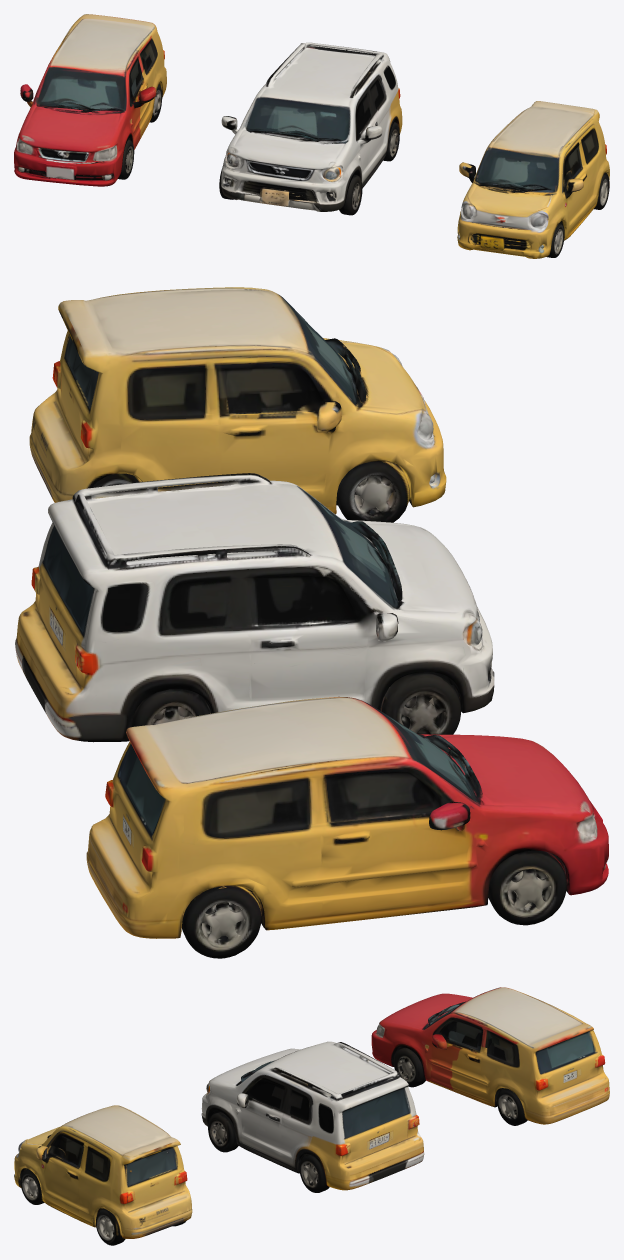
File: cars-1.glb
The picture shows the model from 3 angles, top to bottom: view 1: azimuth 30°, elevation 25°; view 2: azimuth 150°, elevation 25°; view 3: azimuth 270°, elevation 25°; orthographic projection. The views are drawn at different scales.
Visible parts, largest first — view 1: node_0; view 2: node_0; view 3: node_0.
Part boxes in pixels (x1=…): node_0: x1=14, y1=14, x2=609, y2=258; node_0: x1=15, y1=287, x2=608, y2=958; node_0: x1=14, y1=987, x2=609, y2=1245.
Bounding box in the file's own units: 0.9431 × 0.2024 × 1.11.
Materials: 1 (1 with a texture image).
